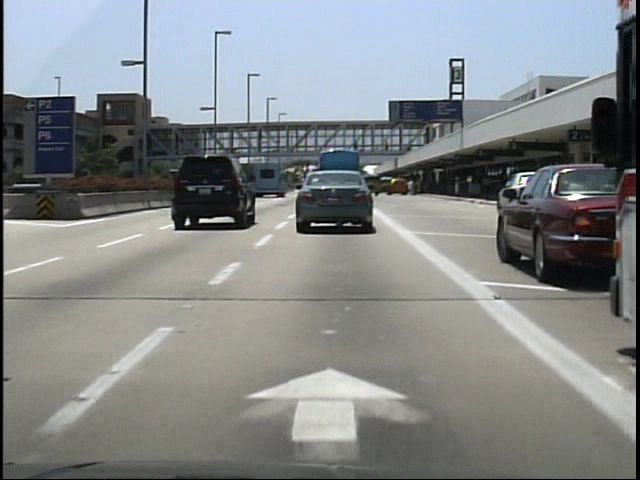person: (402, 176, 417, 200), (382, 136, 395, 158), (348, 136, 361, 156)
